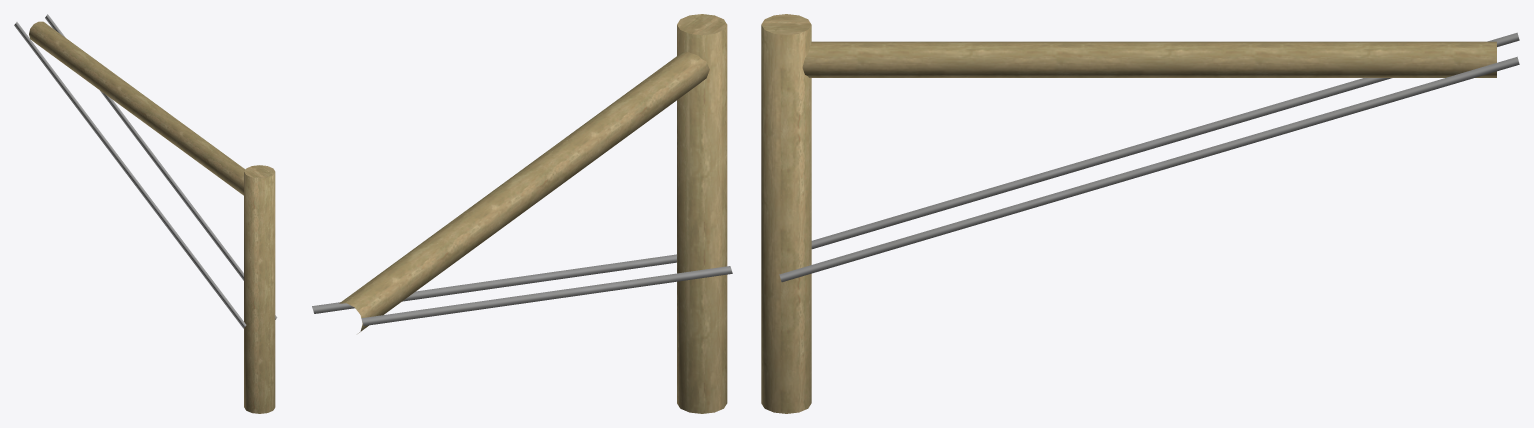
File: farm-fenceWood-start-cbj_LOD01.gltf
3 renders of one model, left to right at view 1: azimuth 30°, elevation 25°; view 2: azimuth 150°, elevation 25°; view 3: azimuth 270°, elevation 25°, orthographic. The views are drawn at different scales.
Parts seen in each view (by area): view 1: fence01; view 2: fence01; view 3: fence01.
Boxes of the visible parts, x1,y1,x2,y2 form: fence01: [14, 14, 277, 413]; fence01: [312, 14, 732, 413]; fence01: [761, 14, 1519, 413].
Bounding box in the file's own units: 0.2863 × 1.83 × 3.32.
